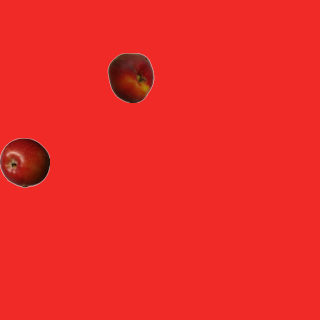Apple Braeburn: (0, 137, 49, 187)
Nectarine Flat: (105, 52, 155, 102)
